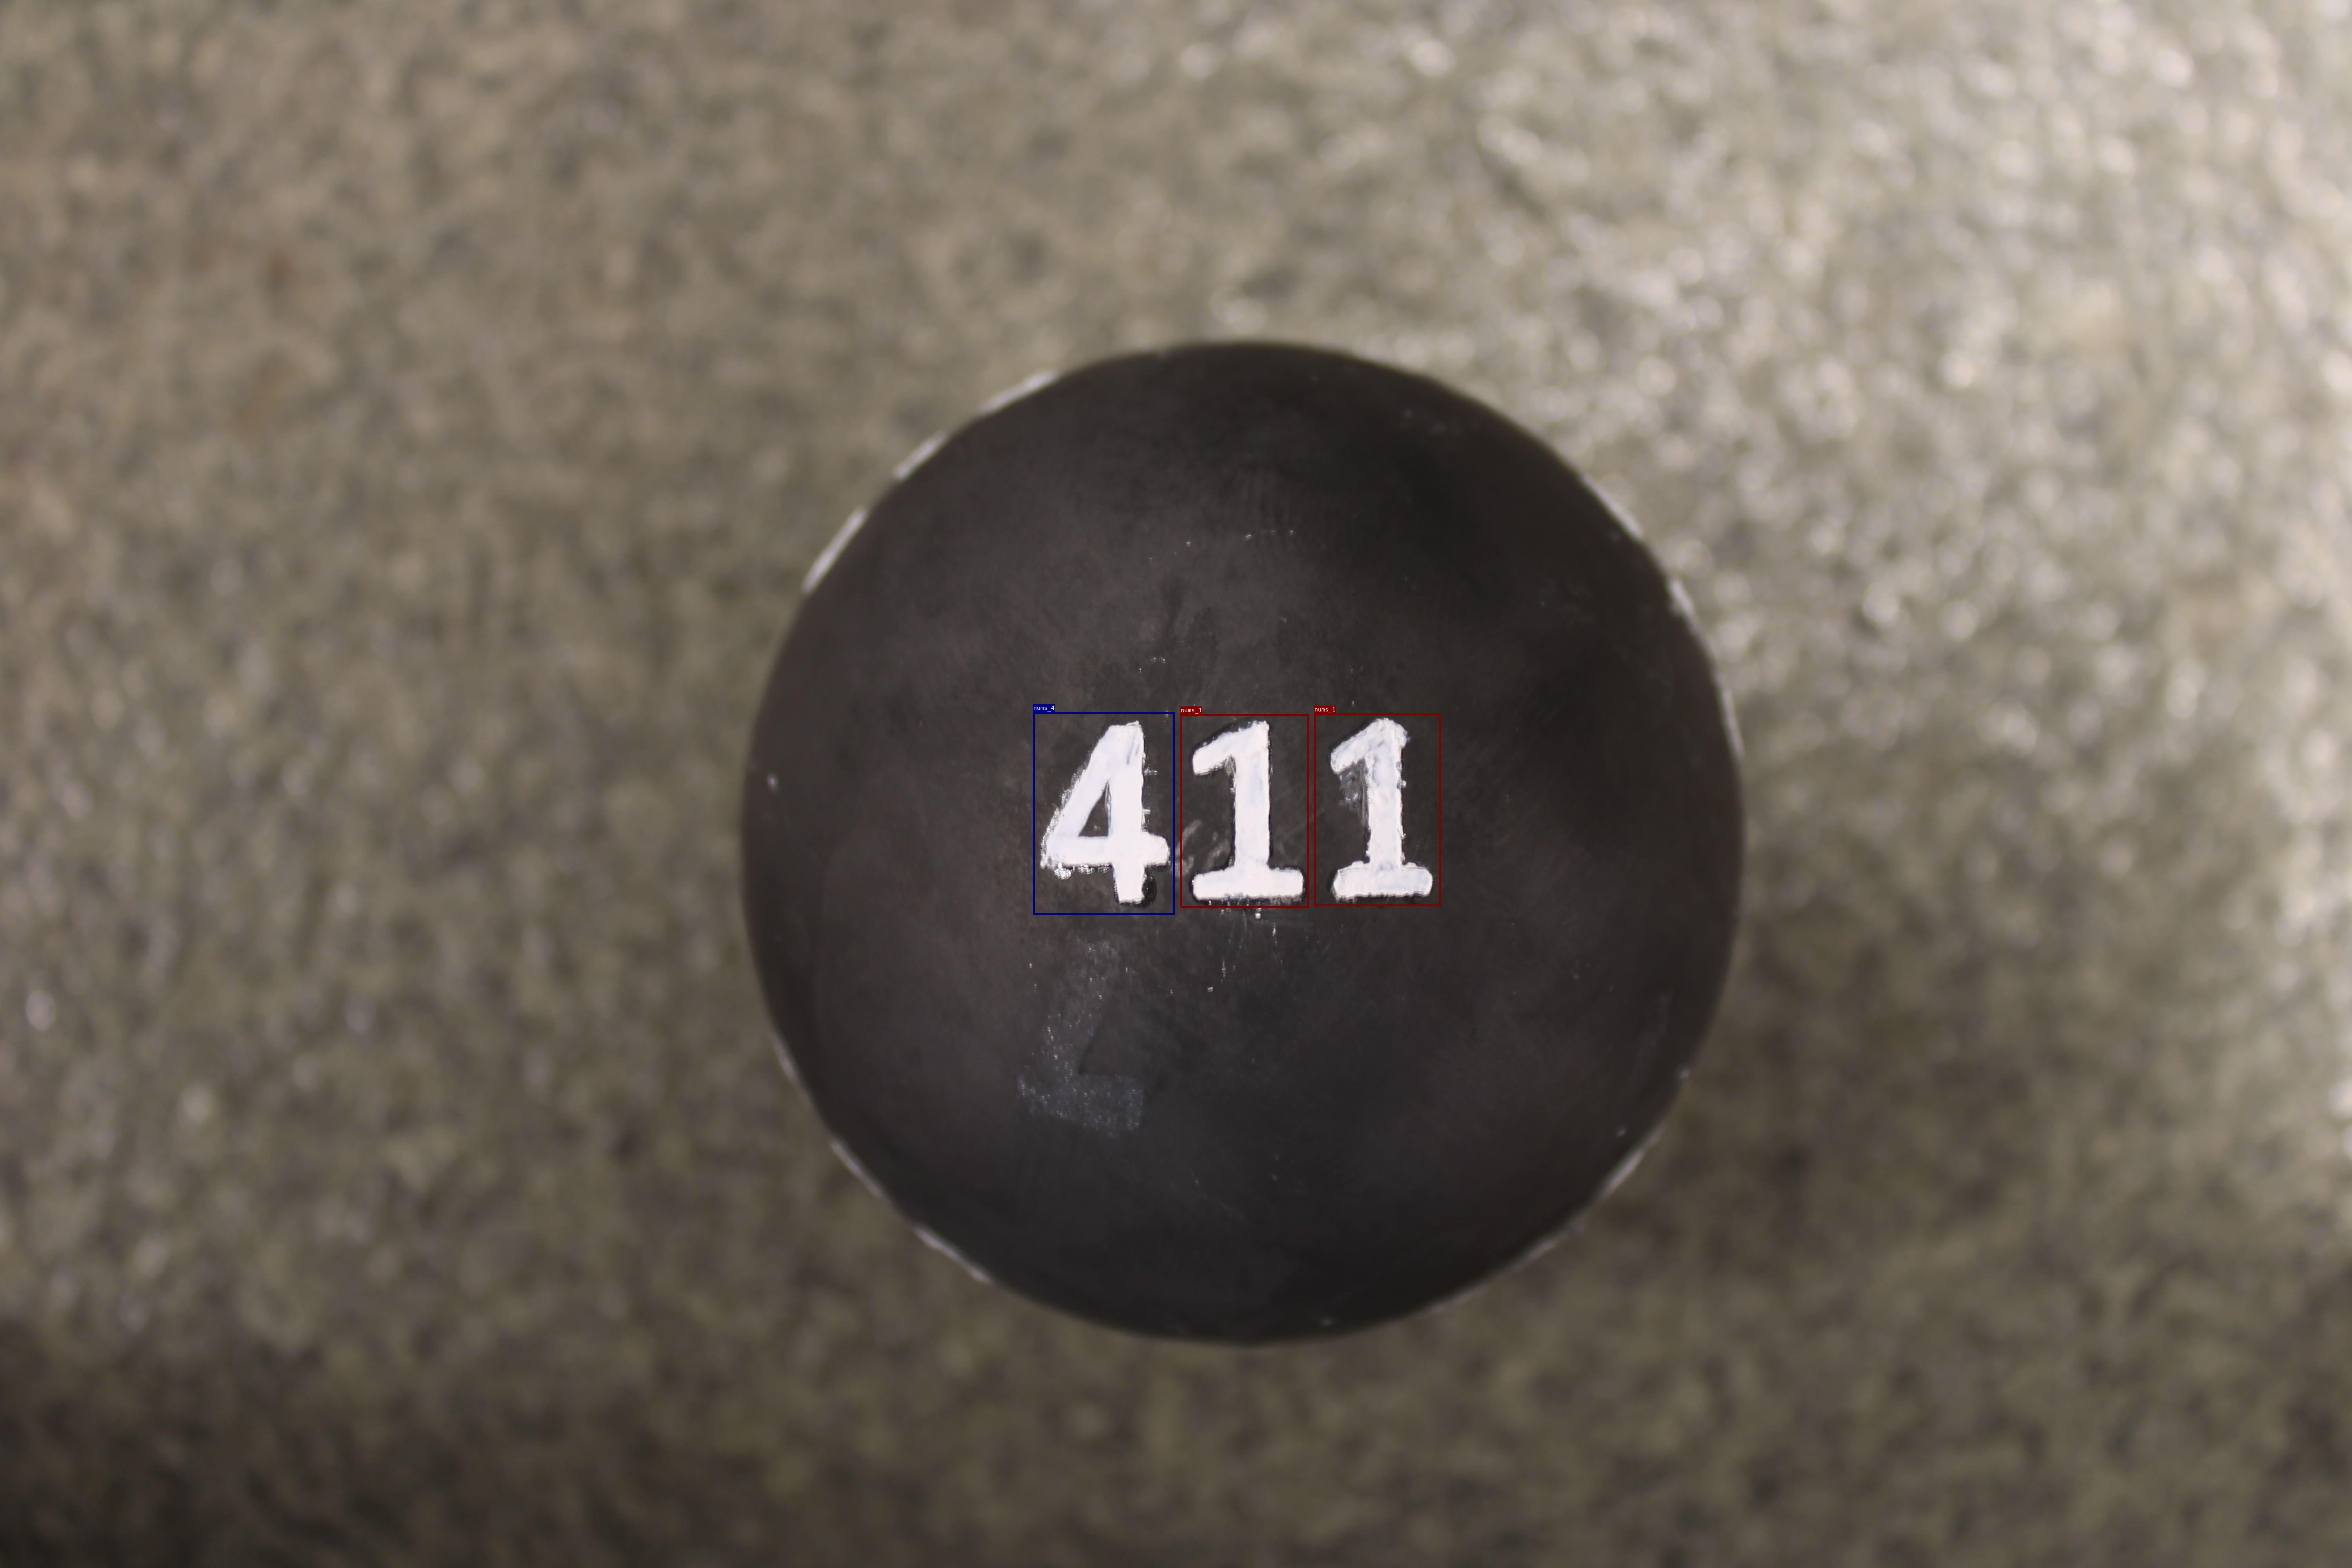nums_1: (1179, 714, 1309, 908), (1314, 714, 1440, 906)
nums_4: (1032, 712, 1174, 915)
